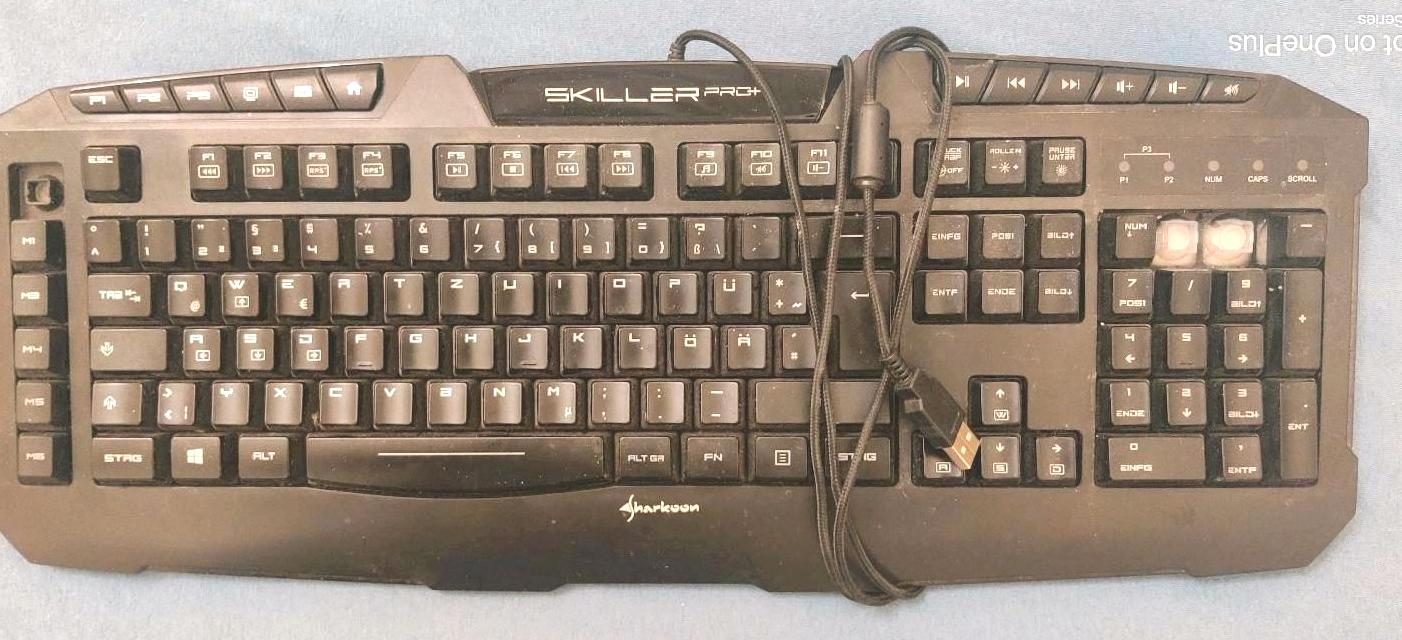0: (622, 210, 668, 260)
1: (131, 212, 174, 260)
2: (186, 212, 229, 260)
3: (239, 211, 283, 261)
4: (294, 210, 336, 259)
5: (348, 210, 392, 259)
6: (403, 210, 448, 260)
7: (459, 211, 503, 260)
8: (513, 211, 558, 260)
9: (568, 210, 613, 260)
a: (178, 321, 219, 368)
accent: (734, 210, 779, 258)
ae: (719, 320, 765, 367)
alt-left: (232, 429, 288, 476)
altgr-right: (611, 428, 672, 478)
b: (422, 375, 466, 421)
c: (314, 375, 356, 421)
caret: (79, 213, 119, 260)
comma: (584, 374, 628, 421)
d: (286, 321, 327, 368)
del: (797, 212, 897, 259)
e: (271, 266, 312, 314)
enter: (828, 265, 886, 369)
f: (340, 321, 381, 367)
g: (393, 320, 437, 367)
h: (448, 320, 492, 367)
hash: (774, 319, 813, 367)
i: (542, 266, 586, 312)
j: (503, 320, 546, 367)
k: (556, 319, 601, 367)
keyboard: (1, 104, 1346, 515)
l: (611, 319, 655, 366)
less: (152, 375, 192, 422)
m: (530, 374, 575, 421)
minus: (692, 374, 738, 421)
n: (476, 374, 520, 421)
o: (596, 266, 642, 313)
oe: (666, 320, 711, 367)
p: (652, 265, 696, 312)
plus: (759, 264, 804, 313)
point: (638, 374, 683, 420)
q: (162, 268, 203, 314)
r: (324, 266, 366, 313)
s: (231, 321, 272, 368)
shift-left: (86, 377, 140, 422)
shift-lock: (85, 321, 165, 368)
shift-right: (750, 377, 894, 422)
space: (299, 428, 606, 489)
ss: (677, 210, 723, 258)
strg-left: (86, 431, 155, 479)
strg-right: (832, 431, 896, 483)
t: (379, 266, 421, 312)
tab: (83, 267, 150, 314)
u: (488, 266, 532, 313)
ue: (706, 265, 750, 313)
v: (368, 375, 411, 421)
w: (217, 267, 258, 314)
x: (261, 376, 301, 421)
y: (207, 376, 247, 421)
z: (434, 266, 477, 312)
